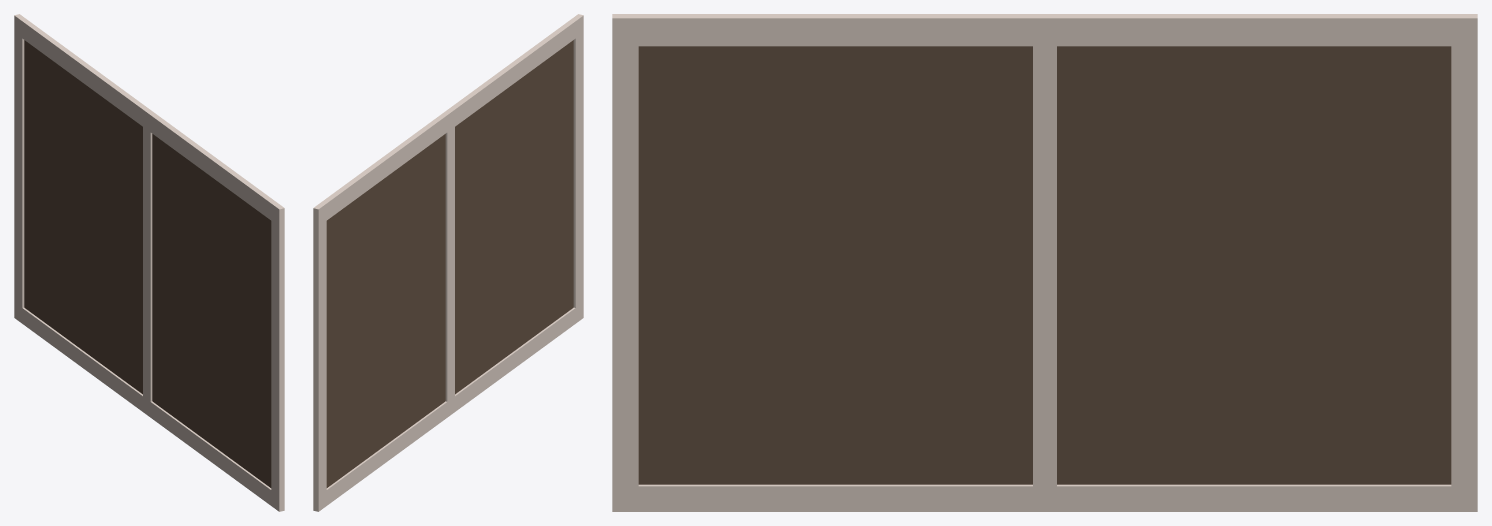
Rendered from Living_Room_window.fbx.
3 renders of one model, left to right at view 1: azimuth 30°, elevation 25°; view 2: azimuth 150°, elevation 25°; view 3: azimuth 270°, elevation 25°, orthographic. The views are drawn at different scales.
Parts seen in each view (by area): view 1: Living_Room_window; view 2: Living_Room_window; view 3: Living_Room_window.
Boxes of the visible parts, left/top/right/bottom form: Living_Room_window: left=14, top=14, right=284, bottom=511; Living_Room_window: left=313, top=14, right=583, bottom=511; Living_Room_window: left=612, top=14, right=1477, bottom=511.
Size of the model in its own units: 4.65 by 249 by 396.
